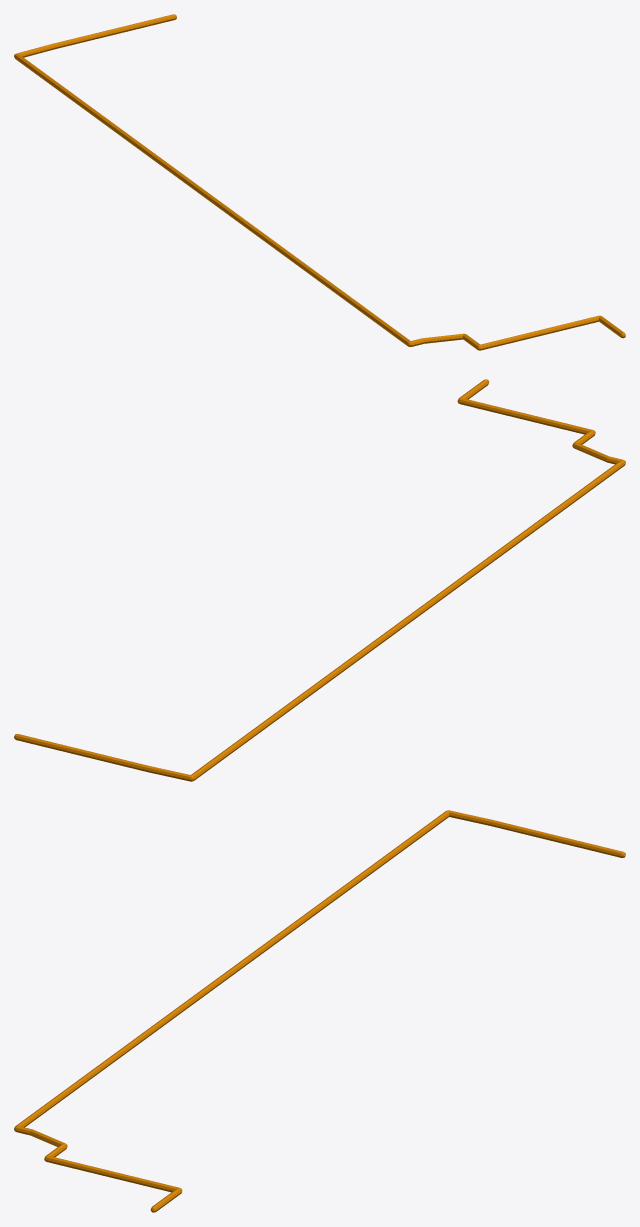
3 renders of one model, top to bottom at view 1: azimuth 30°, elevation 25°; view 2: azimuth 150°, elevation 25°; view 3: azimuth 330°, elevation 25°, orthographic. The views are drawn at different scales.
Bounding box in the file's own units: 652 × 20 × 2863.
